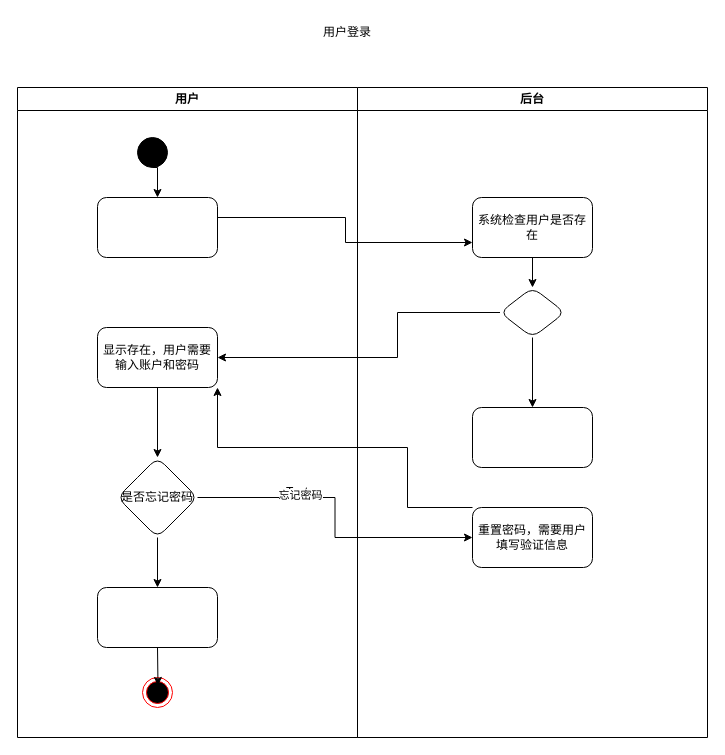
Some shapes in this 725 by 755 pixel diagram are drawn without their labels. The shapes that lost their labels are listed below. From the top down, each one's centre as x and y in pixels, then its label:
the point at 157,227: 用户输入用户名和密码
the point at 532,437: 显示不存在，用户需要重新输入
the point at 157,617: 未忘记密码，正常登录，欢迎光临机票预订系统
